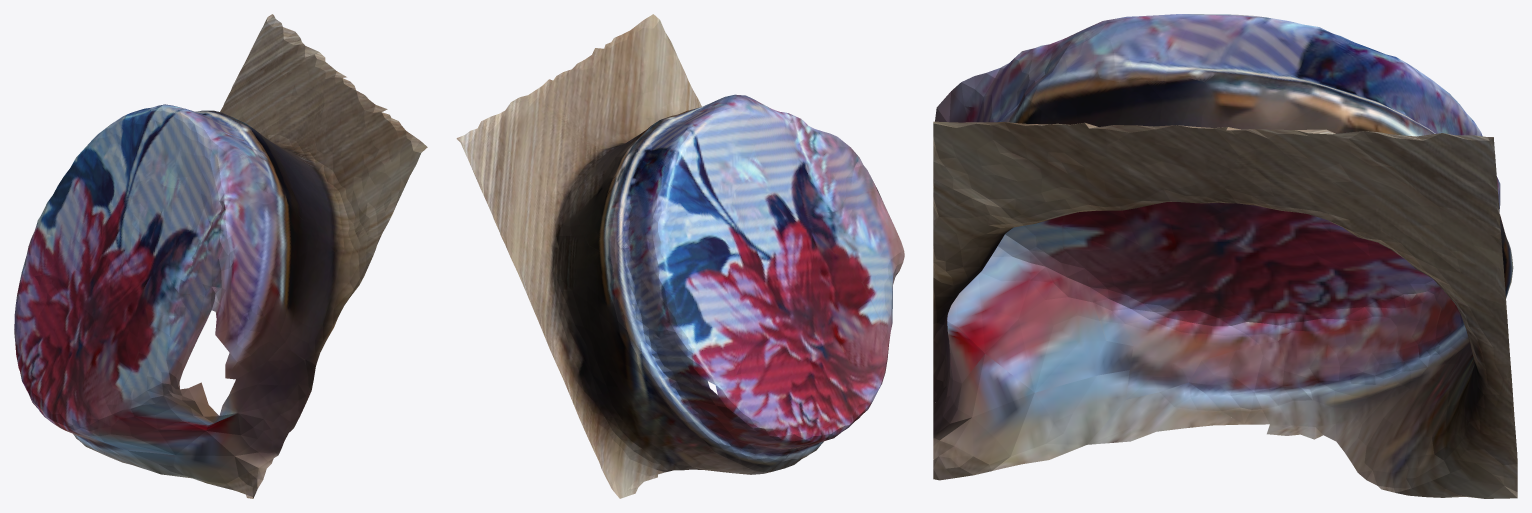
The model's file is 26 Apr 2023.obj.
3 views of the same model, side by side, from view 1: azimuth 30°, elevation 25°; view 2: azimuth 150°, elevation 25°; view 3: azimuth 270°, elevation 25° (orthographic). The views are drawn at different scales.
Bounding box in the file's own units: 0.3819 × 0.3673 × 0.3943.
Materials: 1 (1 with a texture image).
